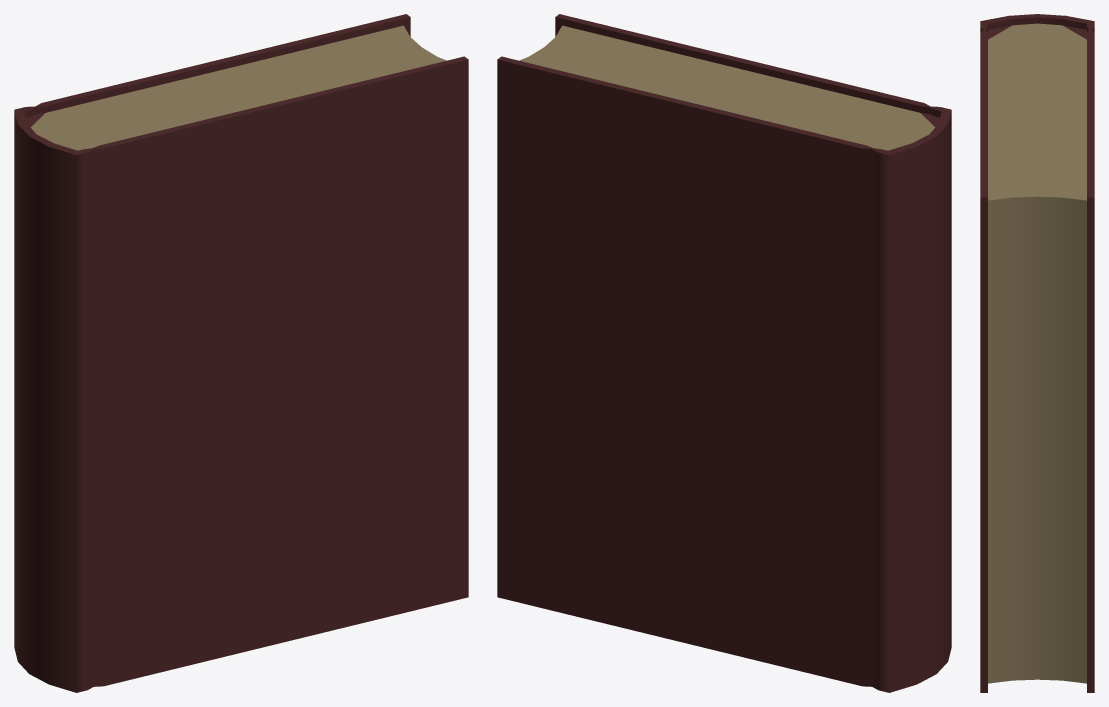
File: Book.fbx
The picture shows the model from 3 angles, left to right: view 1: azimuth 30°, elevation 25°; view 2: azimuth 150°, elevation 25°; view 3: azimuth 270°, elevation 25°; orthographic projection. The views are drawn at different scales.
Parts seen in each view (by area): view 1: Book_LowPoly_Base_Mesh; view 2: Book_LowPoly_Base_Mesh; view 3: Book_LowPoly_Base_Mesh.
Part boxes in pixels (box(x1,y1,x2,y2)): Book_LowPoly_Base_Mesh: box(14, 14, 468, 692); Book_LowPoly_Base_Mesh: box(497, 14, 951, 692); Book_LowPoly_Base_Mesh: box(980, 14, 1094, 692).
Size of the model in its own units: 1.63 by 2.05 by 0.43.
